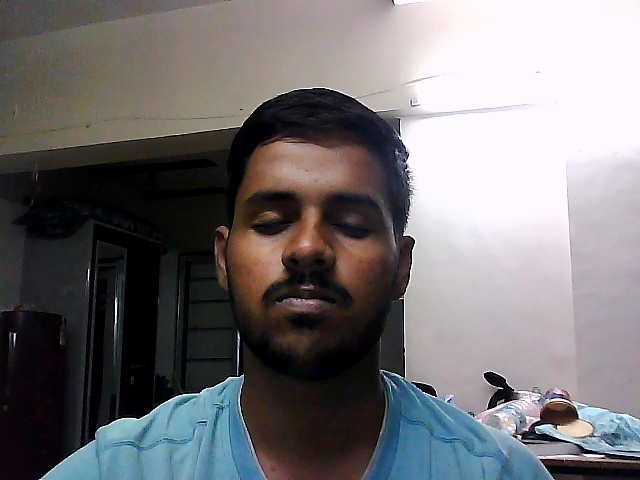drowsy: (203, 76, 429, 383)
